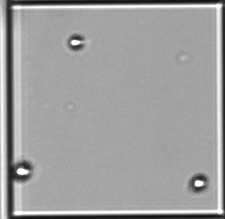Living Cell: (14, 160, 32, 181), (191, 174, 208, 192), (68, 34, 83, 49)
